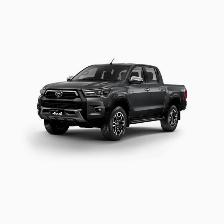NON-EV: (39, 56, 188, 140)
